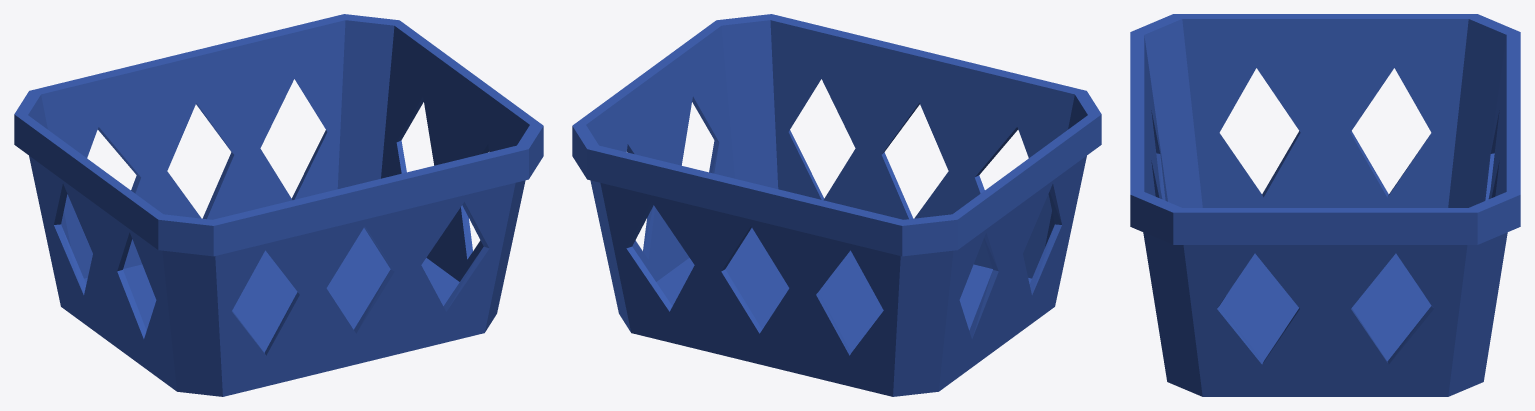
Rendered from SM_Cook_Basket_Blue_01.obj.
3 renders of one model, left to right at view 1: azimuth 30°, elevation 25°; view 2: azimuth 150°, elevation 25°; view 3: azimuth 270°, elevation 25°, orthographic. The views are drawn at different scales.
Parts seen in each view (by area): view 1: SM_Cook_Basket_Blue_01; view 2: SM_Cook_Basket_Blue_01; view 3: SM_Cook_Basket_Blue_01.
Part boxes in pixels (<box>): SM_Cook_Basket_Blue_01: <box>14,14,543,396</box>; SM_Cook_Basket_Blue_01: <box>572,14,1101,396</box>; SM_Cook_Basket_Blue_01: <box>1130,14,1520,396</box>.
Bounding box in the file's own units: 0.318 × 0.15 × 0.2638.
Materials: 1 (1 with a texture image).
